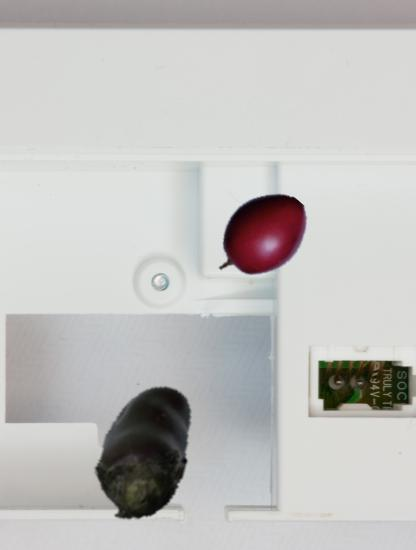Eggplant: (73, 380, 218, 525)
Tamarillo: (209, 185, 314, 290)
